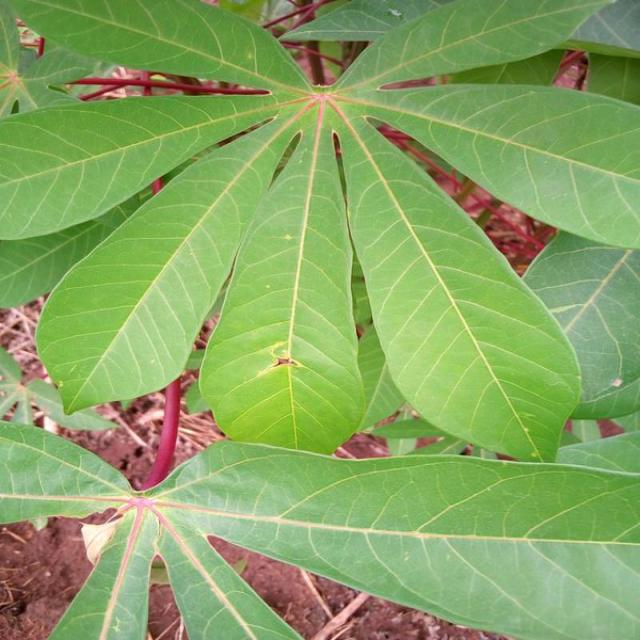cassava leaf: (1, 0, 638, 638), (332, 107, 583, 463), (33, 102, 301, 417), (197, 102, 366, 456)
